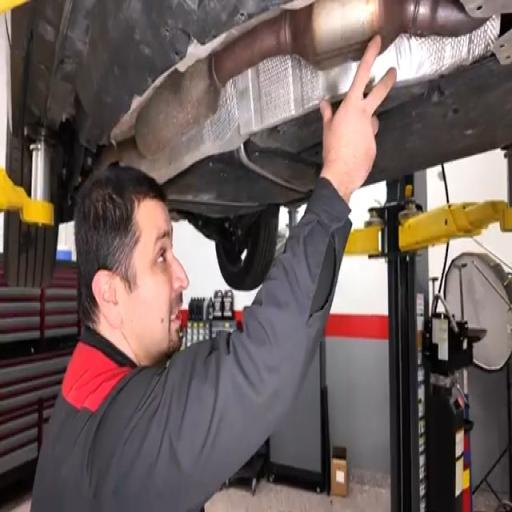exhaust: (135, 0, 486, 157)
tire: (216, 208, 279, 291), (4, 211, 58, 288)
wheel: (216, 208, 279, 291)
